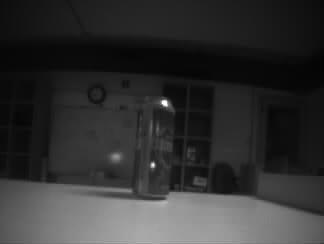Tin can: (133, 96, 173, 199)
